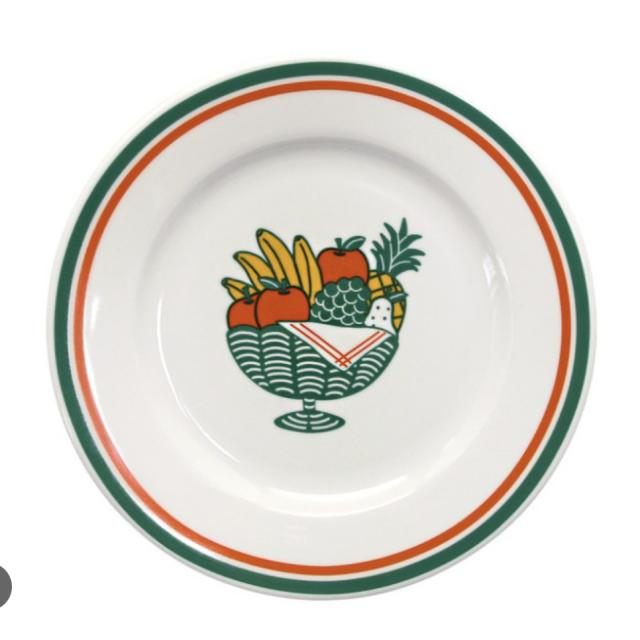recyclable: (32, 46, 614, 606)
